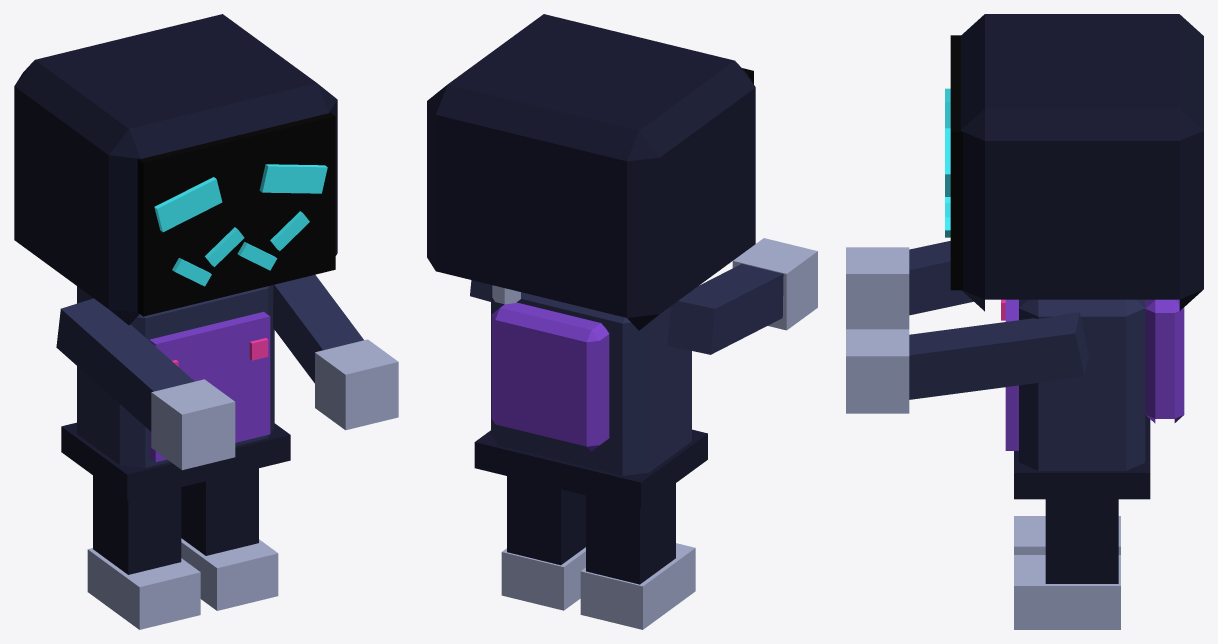
File: grunt_r8.glb
The picture shows the model from 3 angles, left to right: view 1: azimuth 30°, elevation 25°; view 2: azimuth 150°, elevation 25°; view 3: azimuth 270°, elevation 25°; orthographic projection. The views are drawn at different scales.
Parts seen in each view (by area): view 1: grunt_r8_mesh; view 2: grunt_r8_mesh; view 3: grunt_r8_mesh.
Part boxes in pixels (x1=…): grunt_r8_mesh: x1=14, y1=14, x2=398, y2=629; grunt_r8_mesh: x1=427, y1=14, x2=817, y2=629; grunt_r8_mesh: x1=846, y1=14, x2=1203, y2=629.
Bounding box in the file's own units: 0.7185 × 1.5 × 0.9112.
Materials: 1 (1 with a texture image).
